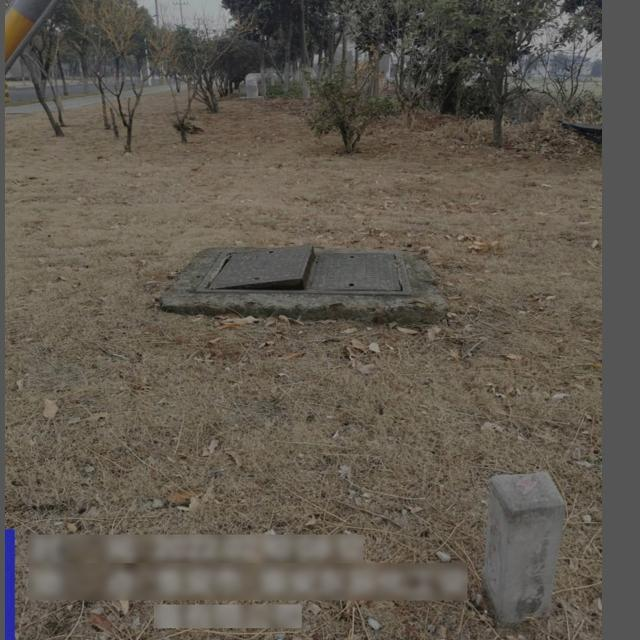uncovered: (177, 222, 459, 326)
